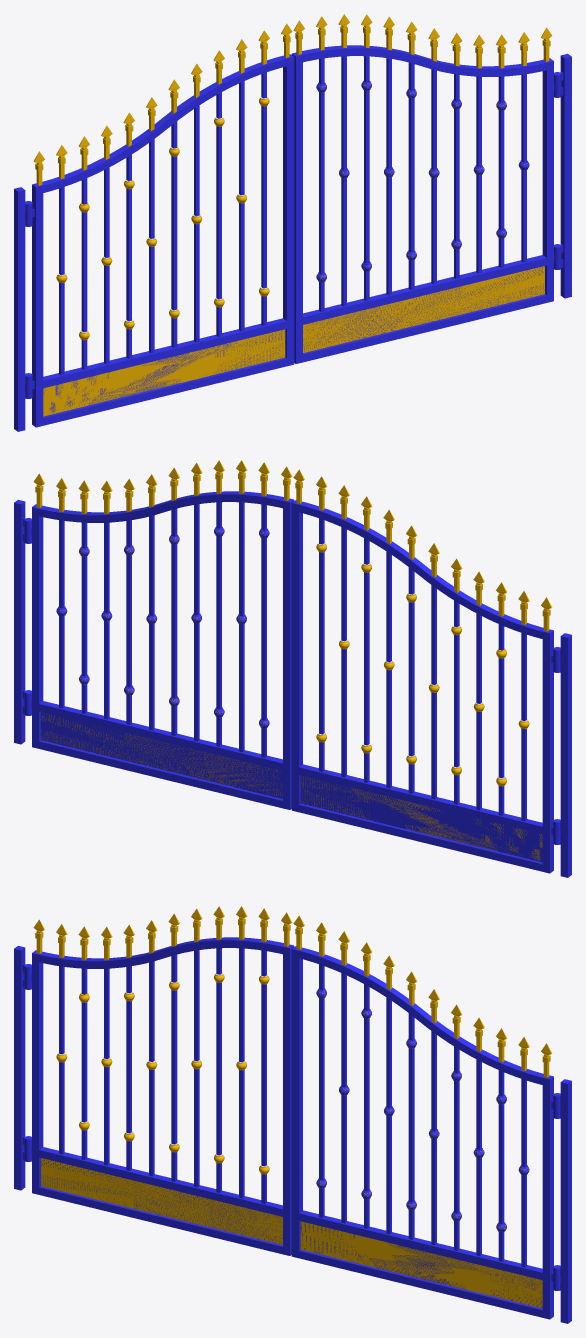
The picture shows the model from 3 angles, top to bottom: view 1: azimuth 30°, elevation 25°; view 2: azimuth 150°, elevation 25°; view 3: azimuth 330°, elevation 25°; orthographic projection.
Parts seen in each view (by area): view 1: SketchUp (×10); view 2: SketchUp (×10); view 3: SketchUp (×10).
Part boxes in pixels (<box>): SketchUp (×10): <box>14,45,571,431</box>; SketchUp (×10): <box>14,491,571,877</box>; SketchUp (×10): <box>14,937,571,1323</box>.
Size of the model in its own units: 154 by 2.61 by 90.92.
